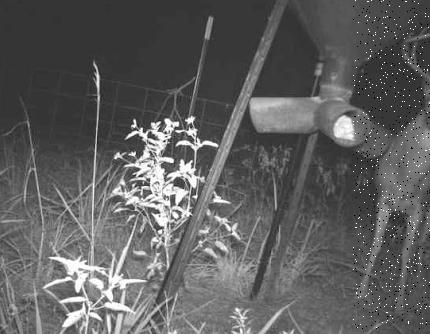Deer: (353, 0, 430, 329)
